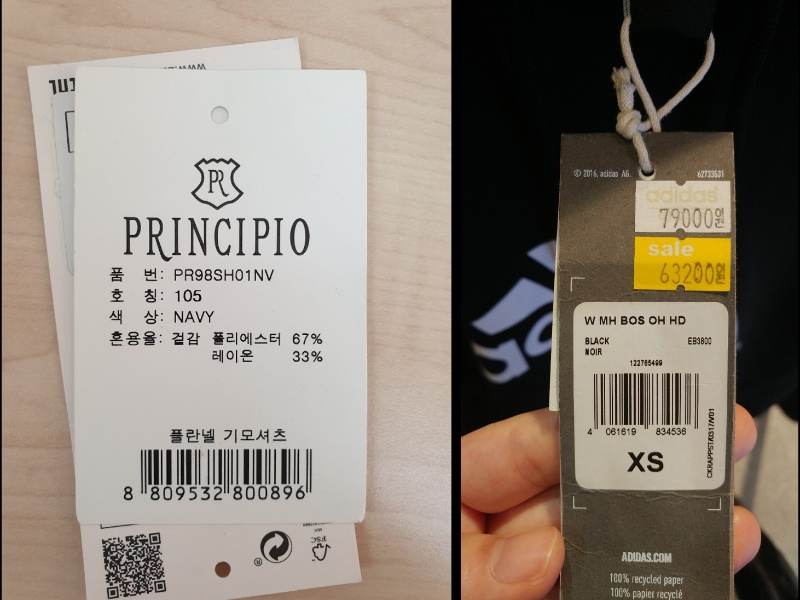tag: (74, 64, 371, 529), (557, 131, 735, 600)
text: (120, 212, 310, 259), (165, 423, 290, 446), (579, 308, 688, 327), (171, 265, 276, 284), (655, 260, 727, 287), (655, 204, 727, 230), (145, 482, 227, 504), (228, 484, 310, 504), (621, 444, 667, 475), (210, 329, 283, 348), (109, 262, 164, 285), (109, 326, 164, 348), (108, 304, 164, 325), (109, 286, 165, 305), (209, 344, 254, 366), (286, 331, 327, 352), (171, 308, 215, 326), (171, 283, 204, 306), (289, 347, 326, 367), (626, 353, 667, 371), (603, 424, 640, 440), (170, 331, 201, 347), (655, 423, 688, 438), (683, 333, 714, 348), (582, 345, 606, 359), (582, 335, 611, 346)
